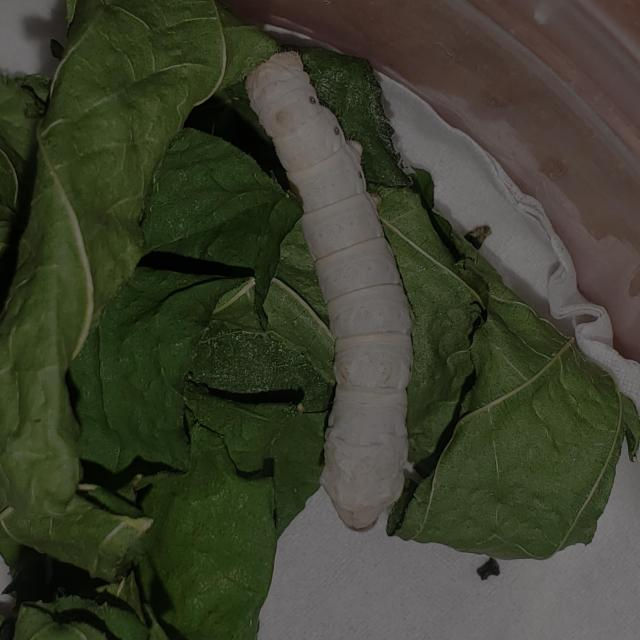Healthy: (170, 13, 524, 580)
